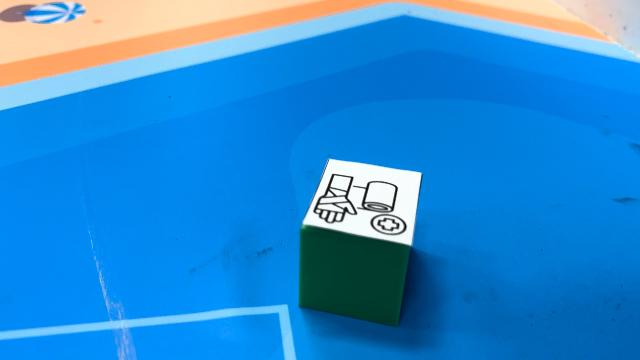bandage: (298, 158, 422, 327)
